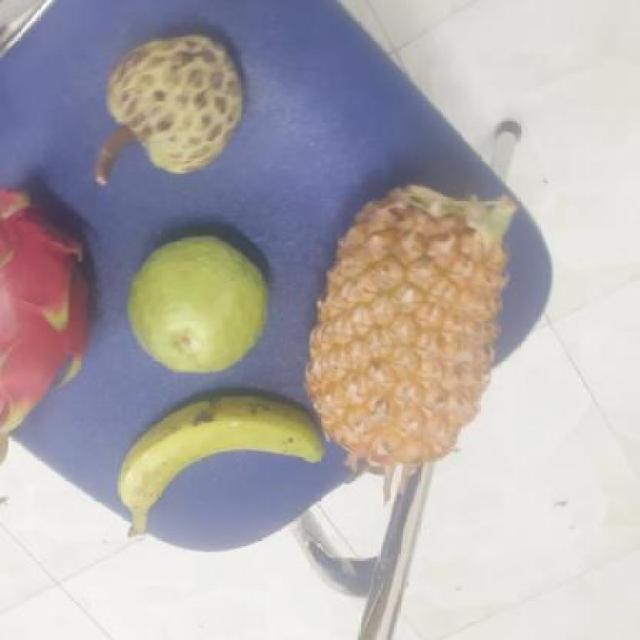banana: (125, 388, 326, 542)
dragon fruit: (1, 182, 107, 430)
guava: (130, 234, 276, 372)
pineapple: (310, 176, 513, 459)
sugar apple: (105, 32, 253, 175)
